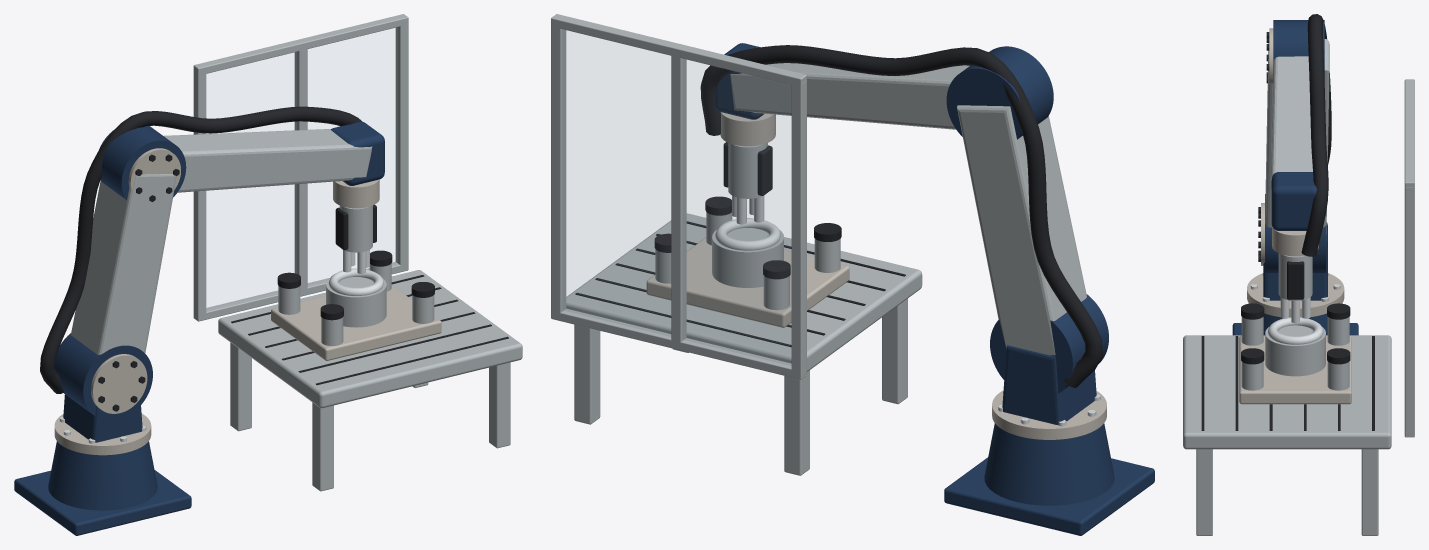
The model's file is robots-29.glb.
3 renders of one model, left to right at view 1: azimuth 30°, elevation 25°; view 2: azimuth 150°, elevation 25°; view 3: azimuth 270°, elevation 25°, orthographic. The views are drawn at different scales.
Visible parts, largest first — view 1: guard, links, table, pedestal, axes, fixture, cable, work, wrist, probe-mount; view 2: guard, links, table, pedestal, axes, cable, fixture, work, wrist, probe-mount, spindle; view 3: table, fixture, links, axes, cable, guard, wrist, work, pedestal, probe-mount, spindle.
Part boxes in pixels (x1,y1,x2,y2): guard: (193, 14, 408, 321); links: (71, 129, 372, 354); table: (218, 270, 522, 491); pedestal: (14, 413, 191, 535); axes: (54, 126, 186, 442); fixture: (271, 250, 441, 360); cable: (40, 106, 361, 393); work: (326, 268, 386, 327); wrist: (331, 121, 384, 208); probe-mount: (335, 204, 376, 252); guard: (551, 14, 806, 379); links: (730, 63, 1086, 355); table: (566, 213, 922, 475); pedestal: (944, 390, 1154, 535); axes: (946, 46, 1108, 425); cable: (700, 45, 1102, 387); fixture: (646, 196, 849, 327); work: (712, 218, 783, 287); wrist: (715, 43, 775, 146); probe-mount: (723, 142, 772, 198); spindle: (732, 195, 764, 224); table: (1183, 335, 1391, 535); fixture: (1239, 303, 1351, 404); links: (1265, 39, 1329, 234); axes: (1258, 20, 1327, 300); cable: (1301, 14, 1331, 256); guard: (1404, 79, 1414, 437); wrist: (1271, 172, 1318, 256); work: (1265, 317, 1325, 376); pedestal: (1232, 273, 1358, 335); probe-mount: (1278, 253, 1312, 300); spindle: (1280, 297, 1310, 323).
Bounding box in the file's own units: 2.97 × 2.47 × 1.4.
